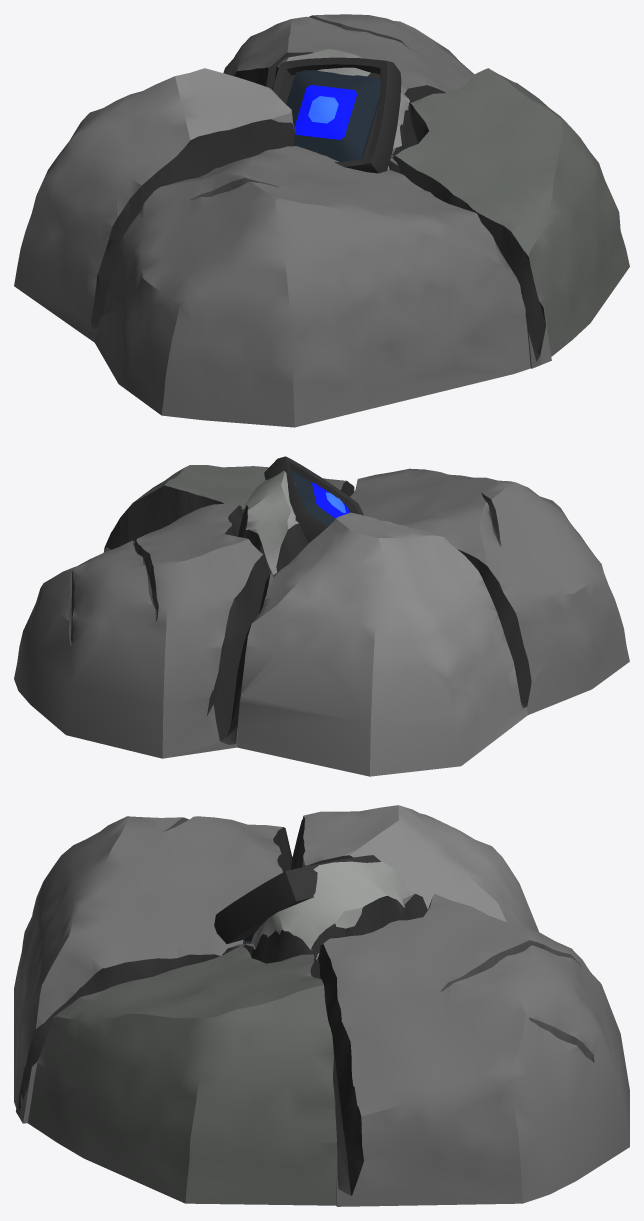
Rendered from rock_blue_eye_231.glb.
3 renders of one model, top to bottom at view 1: azimuth 30°, elevation 25°; view 2: azimuth 150°, elevation 25°; view 3: azimuth 270°, elevation 25°, orthographic. The views are drawn at different scales.
Visible parts, largest first — view 1: rock_blue_eye_231; view 2: rock_blue_eye_231; view 3: rock_blue_eye_231.
Boxes of the visible parts, <box> form: rock_blue_eye_231: <box>14,14,629,427</box>; rock_blue_eye_231: <box>14,456,629,776</box>; rock_blue_eye_231: <box>14,805,629,1206</box>.
Size of the model in its own units: 23.28 by 9.52 by 23.
